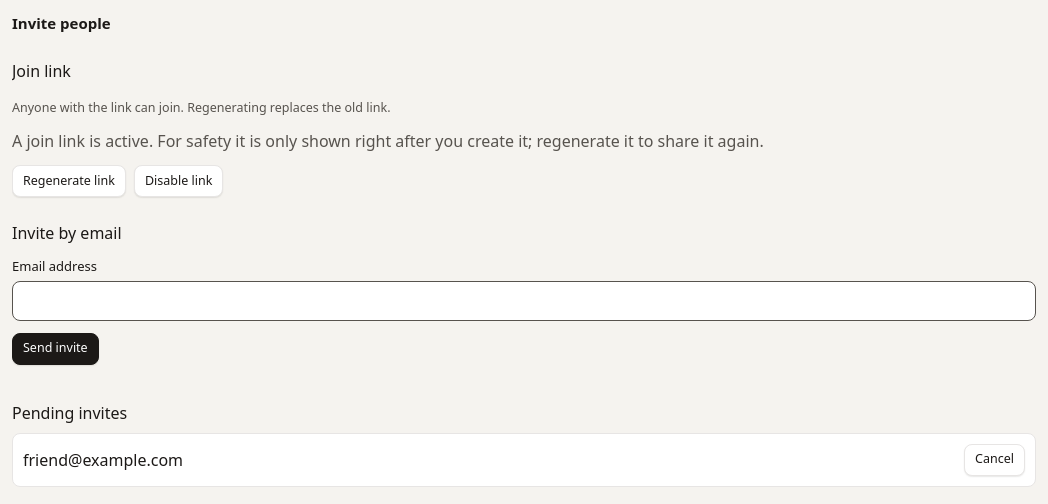
invite panel › cancels a pending invite and disables an active link
The width and height of the screenshot is (1048, 504).
Click the button with aria-label "Cancel invite for friend@example.com" at (995, 460), box [964,444,1025,476]
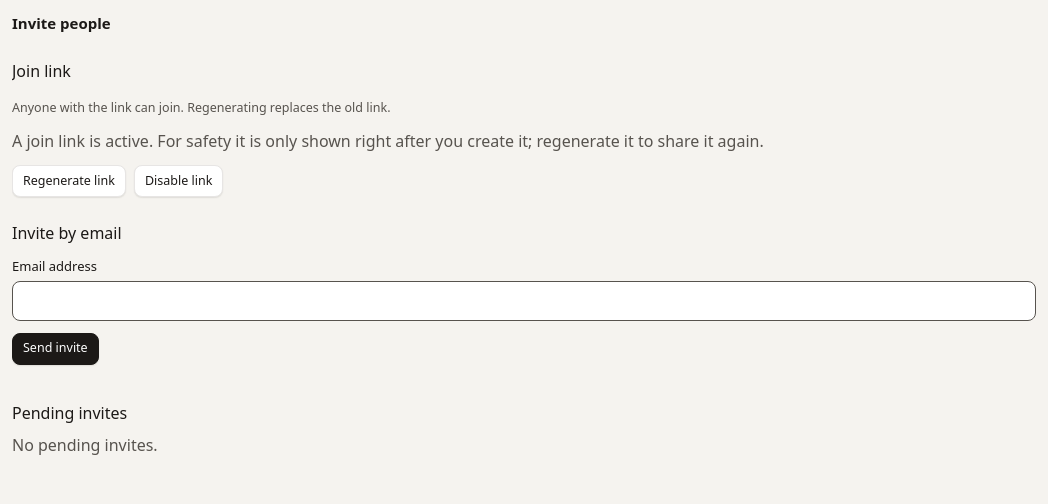
Check: the text "friend@example.com" is gone
Click the button "Disable link" at (179, 181), box [134,165,223,197]
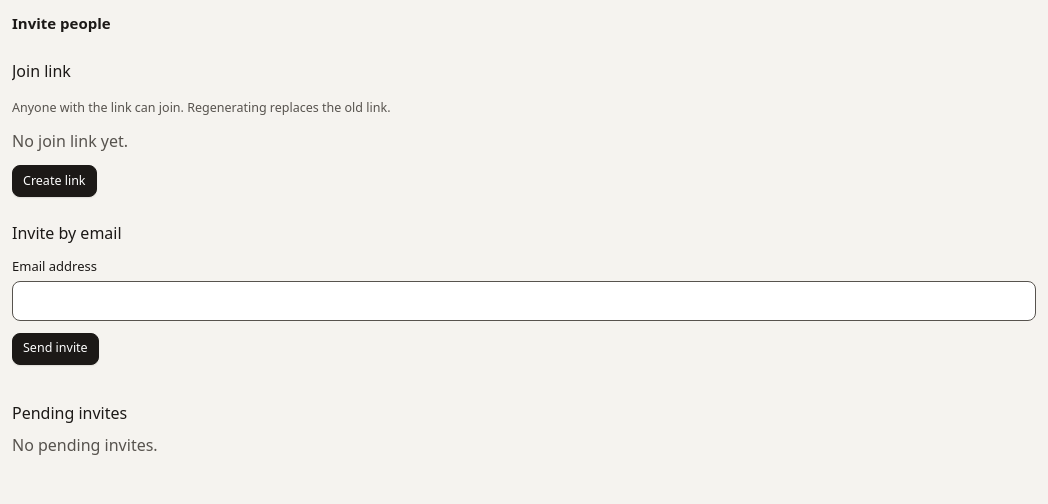
Check: the text "No join link yet." is shown, box [12,130,128,152]
